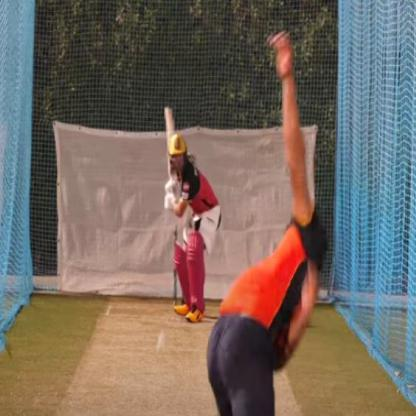ball: (153, 325, 170, 356)
